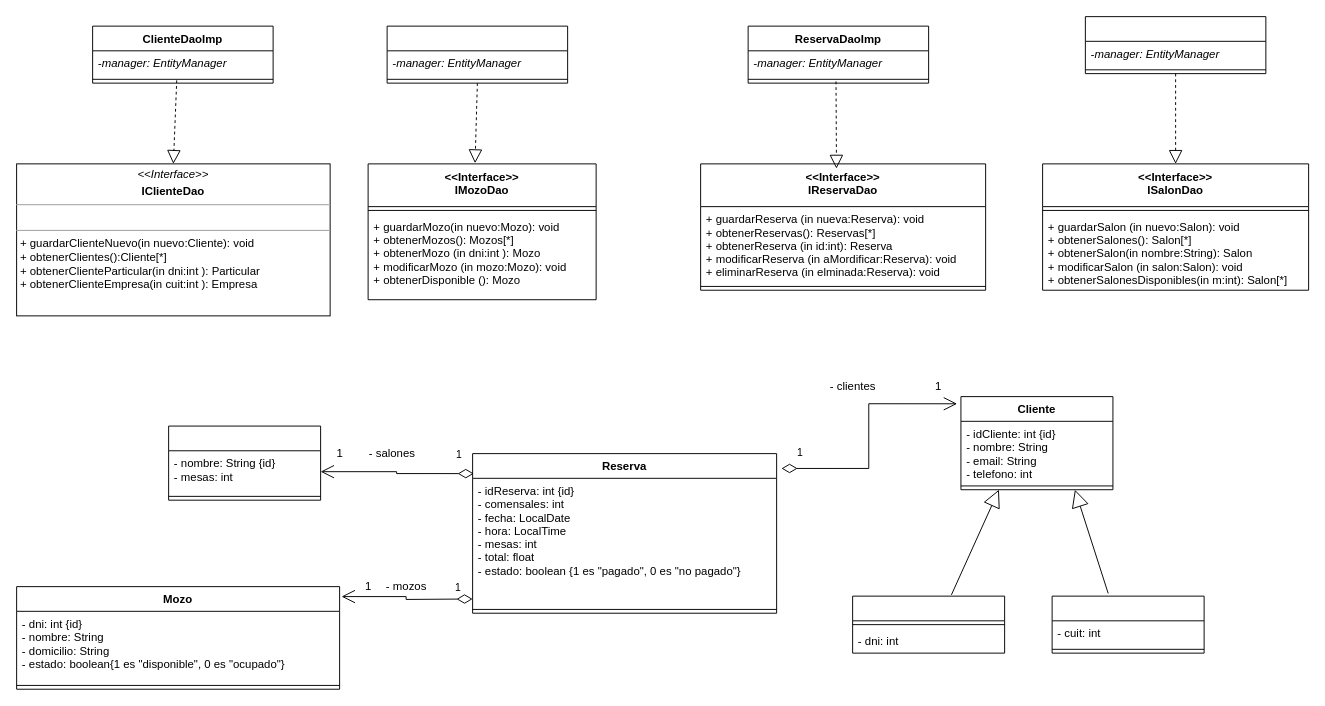
This 1325x706 diagram has some shape labels left out. Here are the shapes that lost their labels. From the top down, the box of each, then its label:
(386, 25, 568, 83): MozoDaoImp
(1084, 16, 1266, 74): SalonDaoImp
(168, 425, 321, 500): Salon
(852, 595, 1005, 653): Particular
(1051, 595, 1204, 653): Empresa
